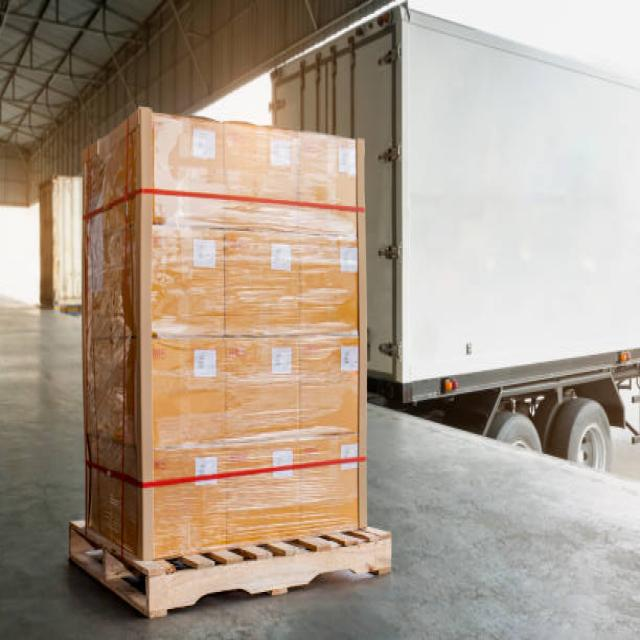Wooden-Pallets: (67, 516, 397, 628)
